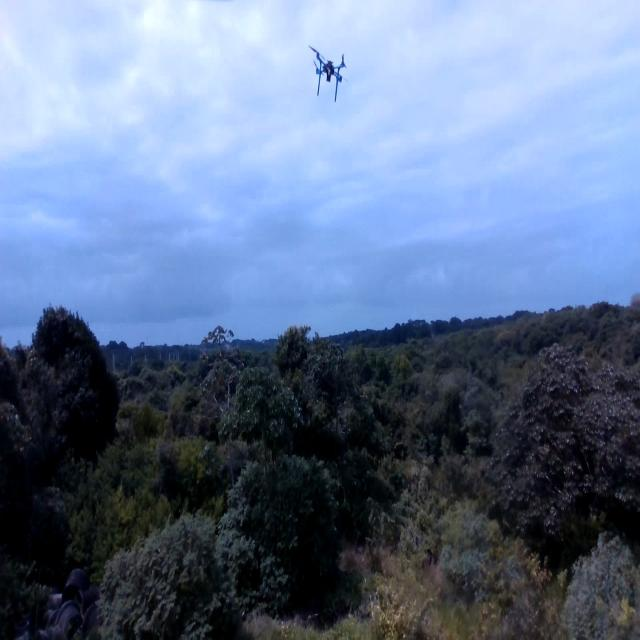-uav-: (305, 43, 357, 114)
